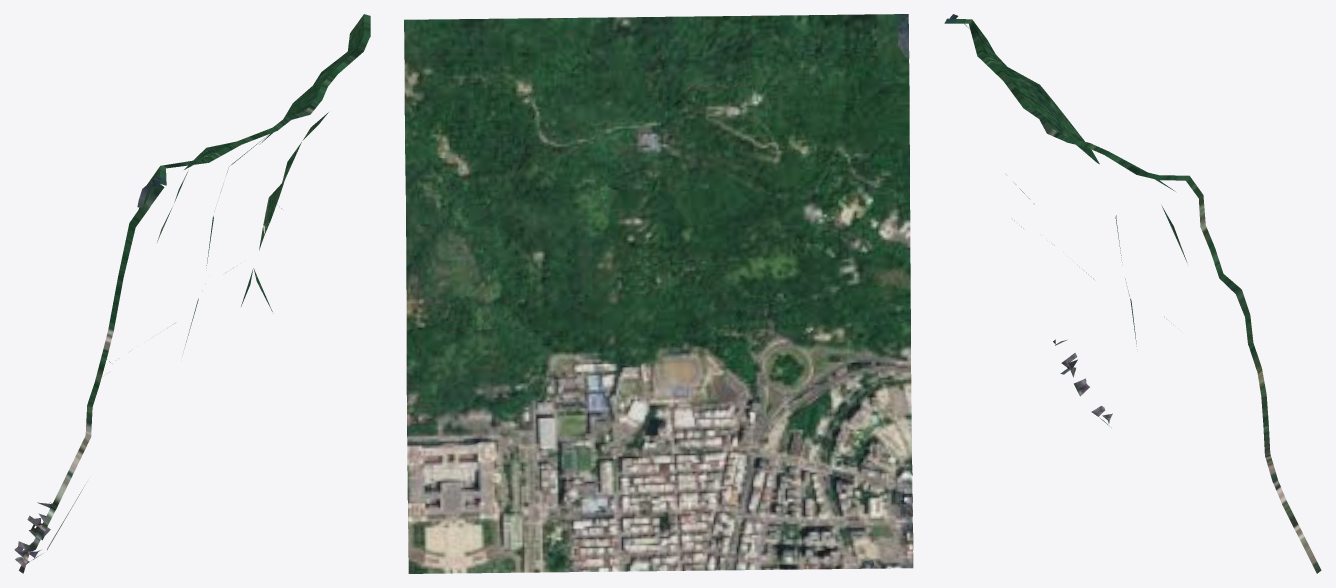
3 views of the same model, side by side, from view 1: azimuth 30°, elevation 25°; view 2: azimuth 150°, elevation 25°; view 3: azimuth 270°, elevation 25° (orthographic). The views are drawn at different scales.
Size of the model in its own units: 1167 by 1181 by 934.
Materials: 1 (1 with a texture image).
